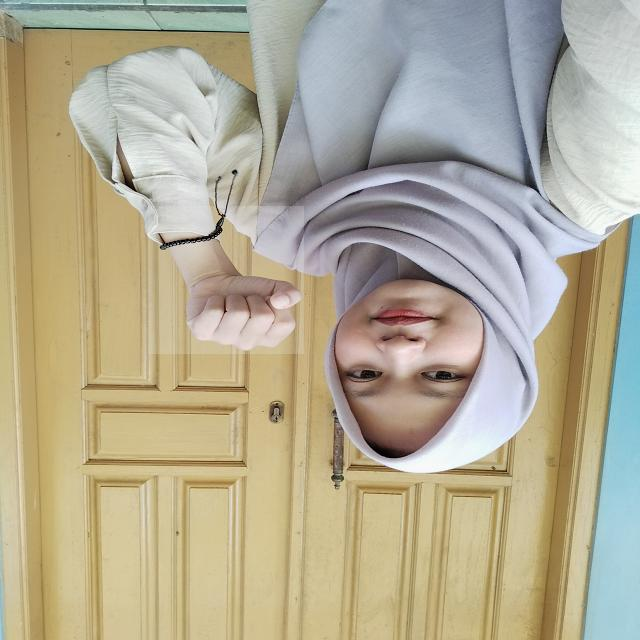baik: (148, 205, 304, 354)
